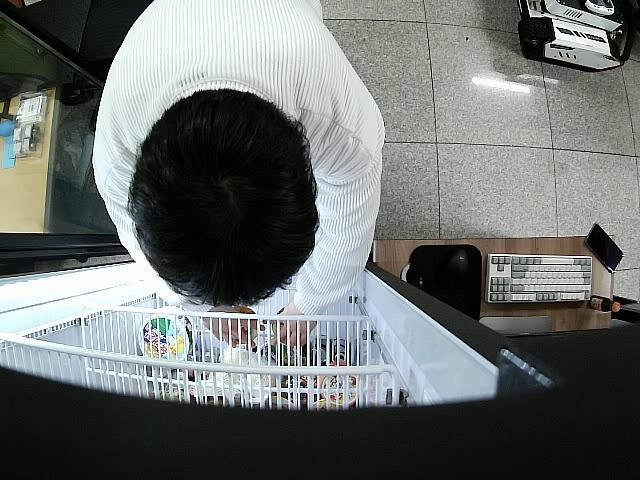00_hand: (201, 304, 266, 348), (274, 307, 316, 350)
04_chapagetti_S: (239, 304, 262, 344)
